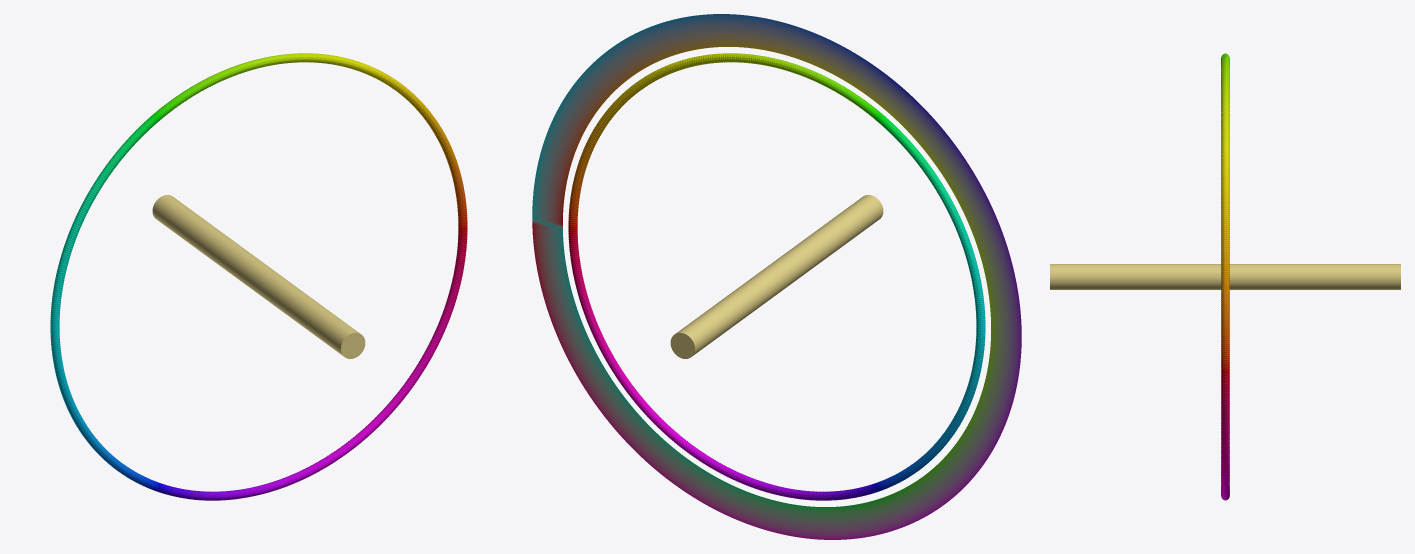
The model's file is rainbow_elevator_seal_static.glb.
3 views of the same model, side by side, from view 1: azimuth 30°, elevation 25°; view 2: azimuth 150°, elevation 25°; view 3: azimuth 270°, elevation 25° (orthographic). The views are drawn at different scales.
Parts seen in each view (by area): view 1: elevator_111; view 2: rainbow_halo, elevator_111; view 3: elevator_111.
Boxes of the visible parts, x1,y1,x2,y2 form: elevator_111: (152, 195, 365, 358); rainbow_halo: (532, 14, 1021, 539); elevator_111: (670, 195, 883, 358); elevator_111: (1050, 264, 1400, 289).
Size of the model in its own units: 2.4 by 2.4 by 1.6.
